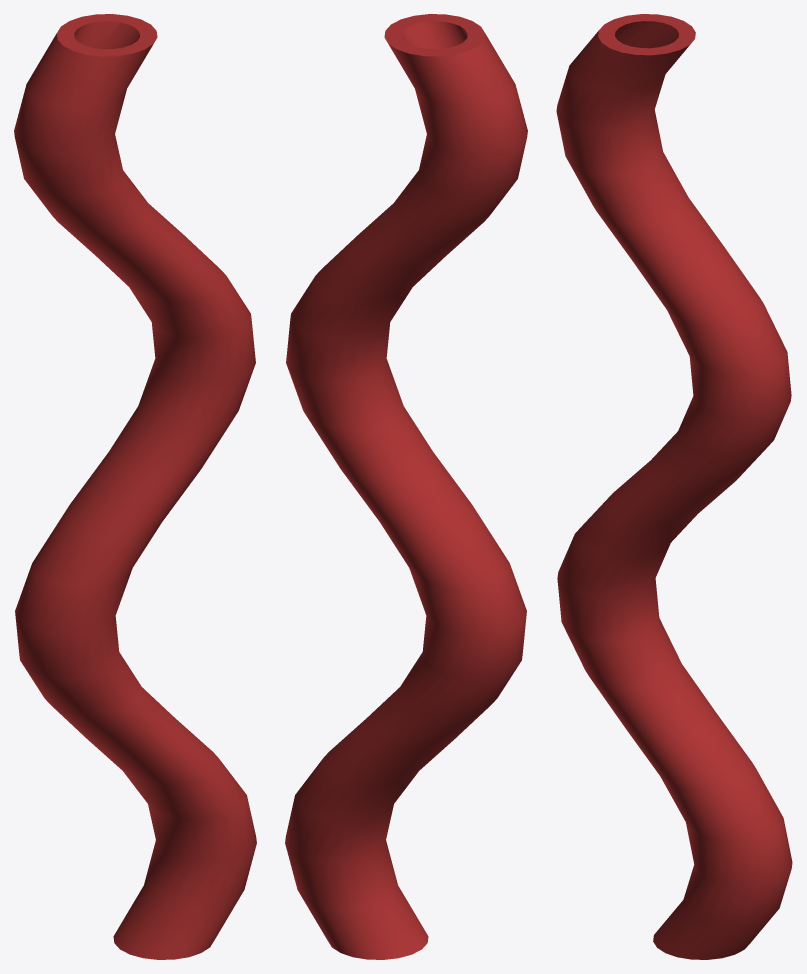
File: AssetsForUnityExtra(3).fbx
3 views of the same model, side by side, from view 1: azimuth 30°, elevation 25°; view 2: azimuth 150°, elevation 25°; view 3: azimuth 330°, elevation 25° (orthographic). The views are drawn at different scales.
Visible parts, largest first — view 1: pCylinder10; view 2: pCylinder10; view 3: pCylinder10.
Part boxes in pixels (left/top/right/bottom): pCylinder10: left=14, top=14, right=256, bottom=959; pCylinder10: left=285, top=14, right=527, bottom=959; pCylinder10: left=556, top=14, right=792, bottom=959.
Bounding box in the file's own units: 6.3 × 24 × 2.4.
